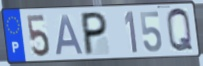1: (124, 10, 139, 55)
5: (25, 13, 52, 59), (138, 10, 164, 54)
A: (54, 13, 86, 57)
P: (82, 11, 109, 58)
Q: (165, 7, 196, 55)
